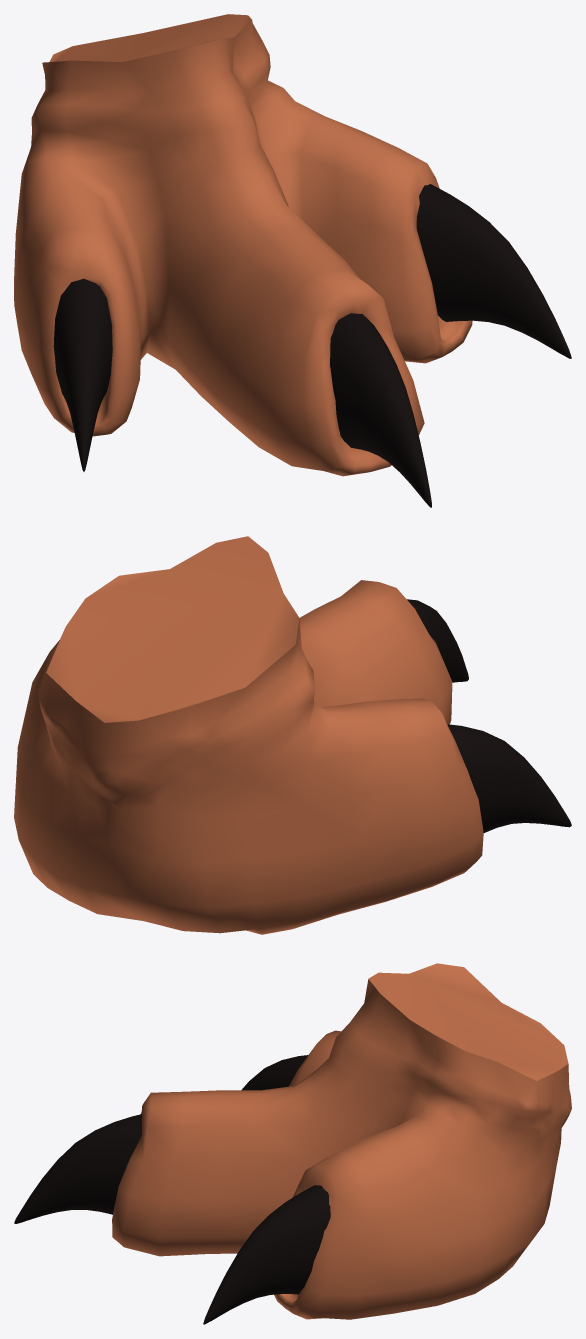
The model's file is pieDer2.obj.
3 renders of one model, top to bottom at view 1: azimuth 30°, elevation 25°; view 2: azimuth 150°, elevation 25°; view 3: azimuth 270°, elevation 25°, orthographic. The views are drawn at different scales.
Parts seen in each view (by area): view 1: polySurface5; view 2: polySurface5; view 3: polySurface5.
Boxes of the visible parts, x1,y1,x2,y2 form: polySurface5: [14, 14, 571, 507]; polySurface5: [14, 536, 571, 934]; polySurface5: [14, 963, 571, 1324].
Size of the model in its own units: 2.01 by 1.31 by 2.51.
Materials: 2 (2 with a texture image).
